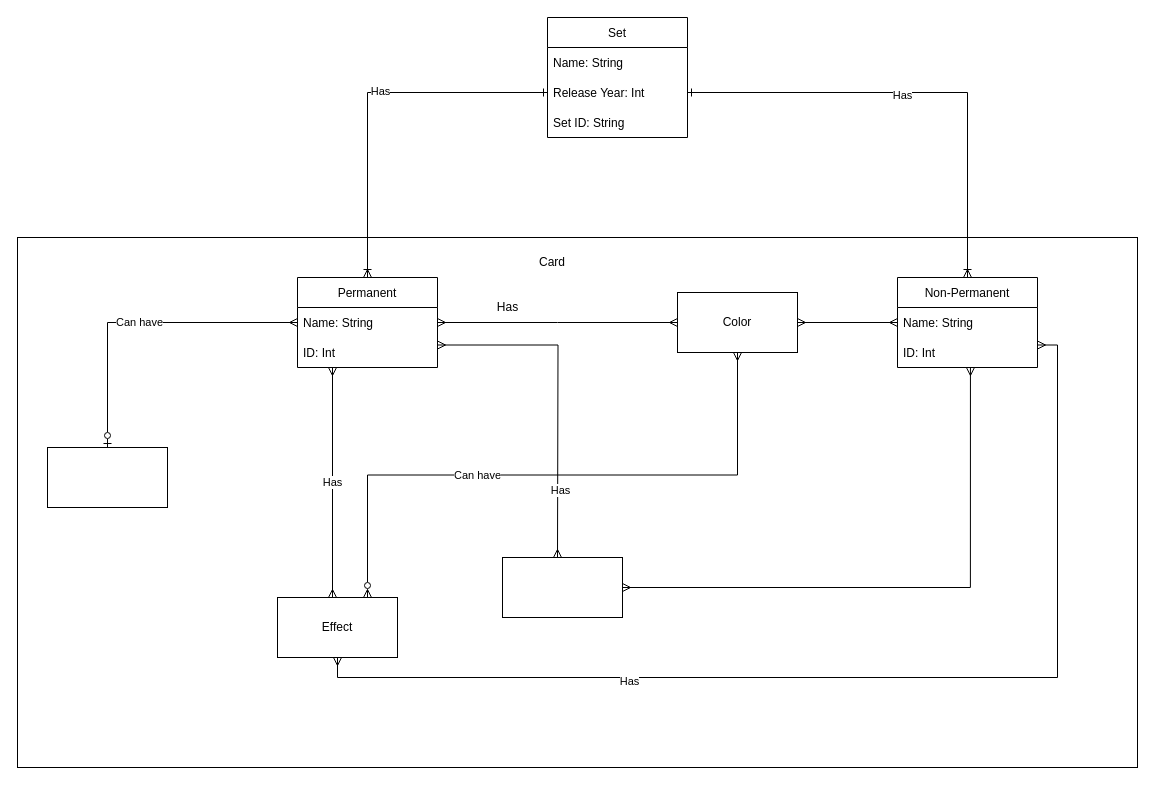
Some shapes in this 1155 by 785 pixel diagram are drawn without their labels. The box of each missing label's shape, as (x1, y1, x2, y2) in pixels:
Power/Toughness: (46, 446, 168, 508)
Type: (502, 556, 622, 618)
